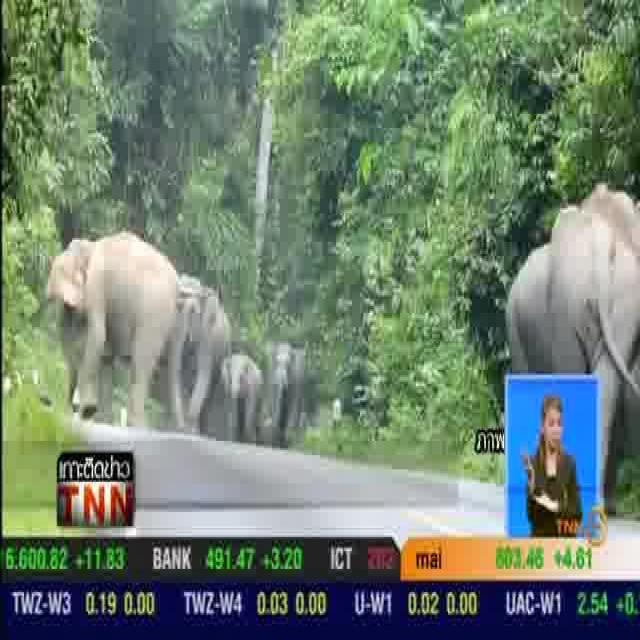Elephant: (51, 238, 169, 357), (555, 215, 640, 363), (185, 286, 223, 387), (222, 354, 254, 416), (272, 341, 300, 402)
